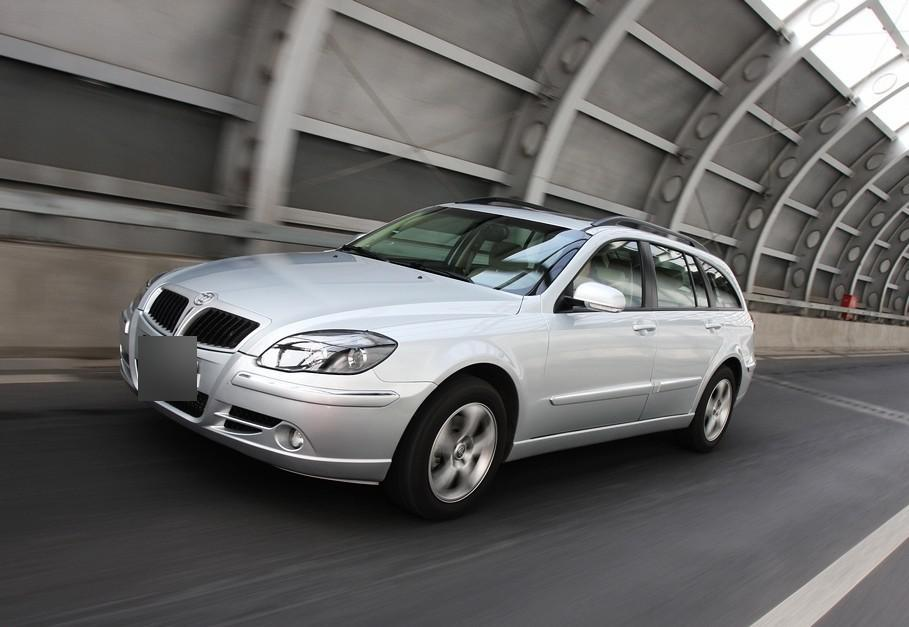Wagon: (119, 197, 756, 522)
